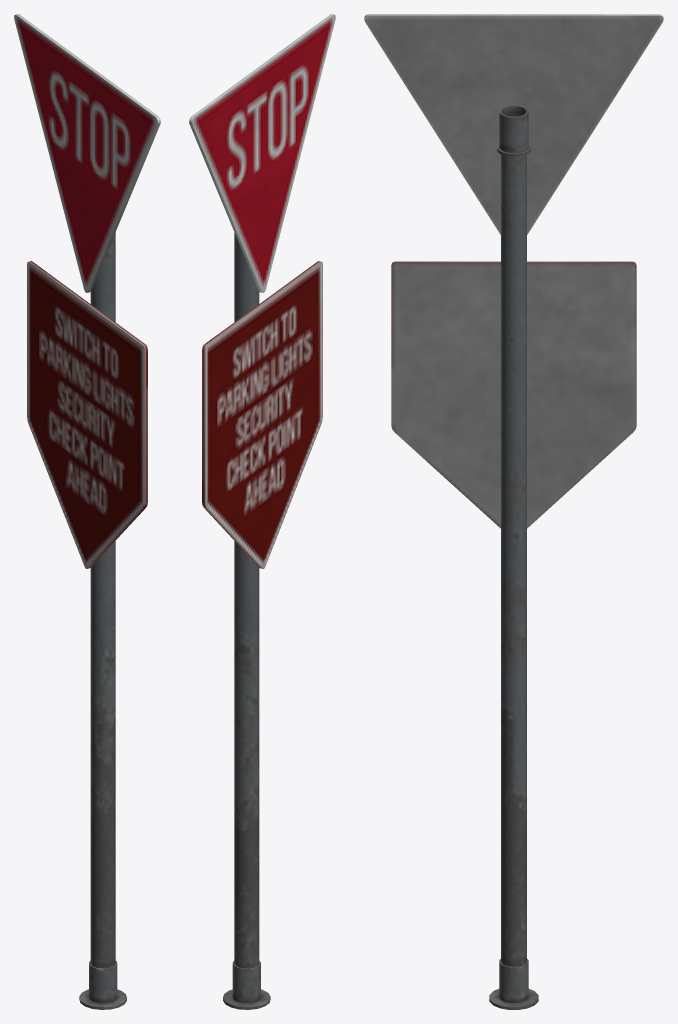
File: SM_Sign_4_Stop.fbx
The picture shows the model from 3 angles, left to right: view 1: azimuth 30°, elevation 25°; view 2: azimuth 150°, elevation 25°; view 3: azimuth 270°, elevation 25°; orthographic projection. The views are drawn at different scales.
Visible parts, largest first — view 1: SM_Sign_4_Stop_LOD0; view 2: SM_Sign_4_Stop_LOD0; view 3: SM_Sign_4_Stop_LOD0.
Part boxes in pixels (x1=…): SM_Sign_4_Stop_LOD0: x1=14, y1=14, x2=160, y2=1009; SM_Sign_4_Stop_LOD0: x1=189, y1=14, x2=335, y2=1009; SM_Sign_4_Stop_LOD0: x1=364, y1=14, x2=663, y2=1009.
Bounding box in the file's own units: 11.52 × 70.42 × 253.
2 materials, 2 textured.
